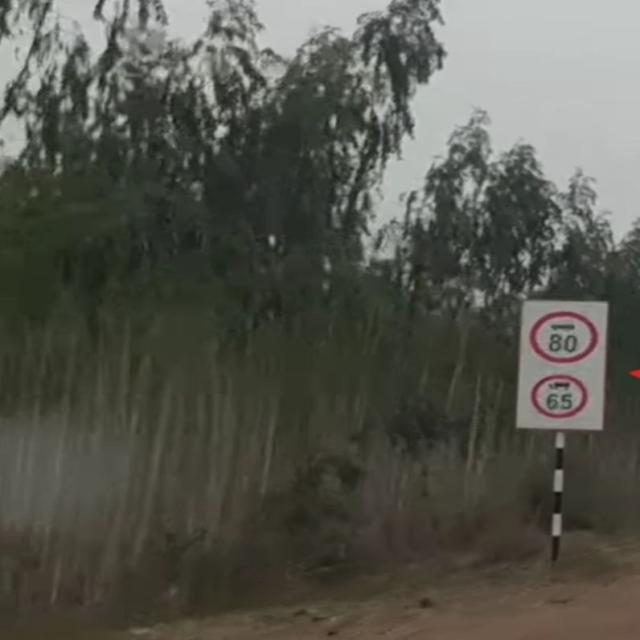speedlimit_65: (526, 375, 588, 420)
speedlimit_80: (531, 313, 599, 364)
